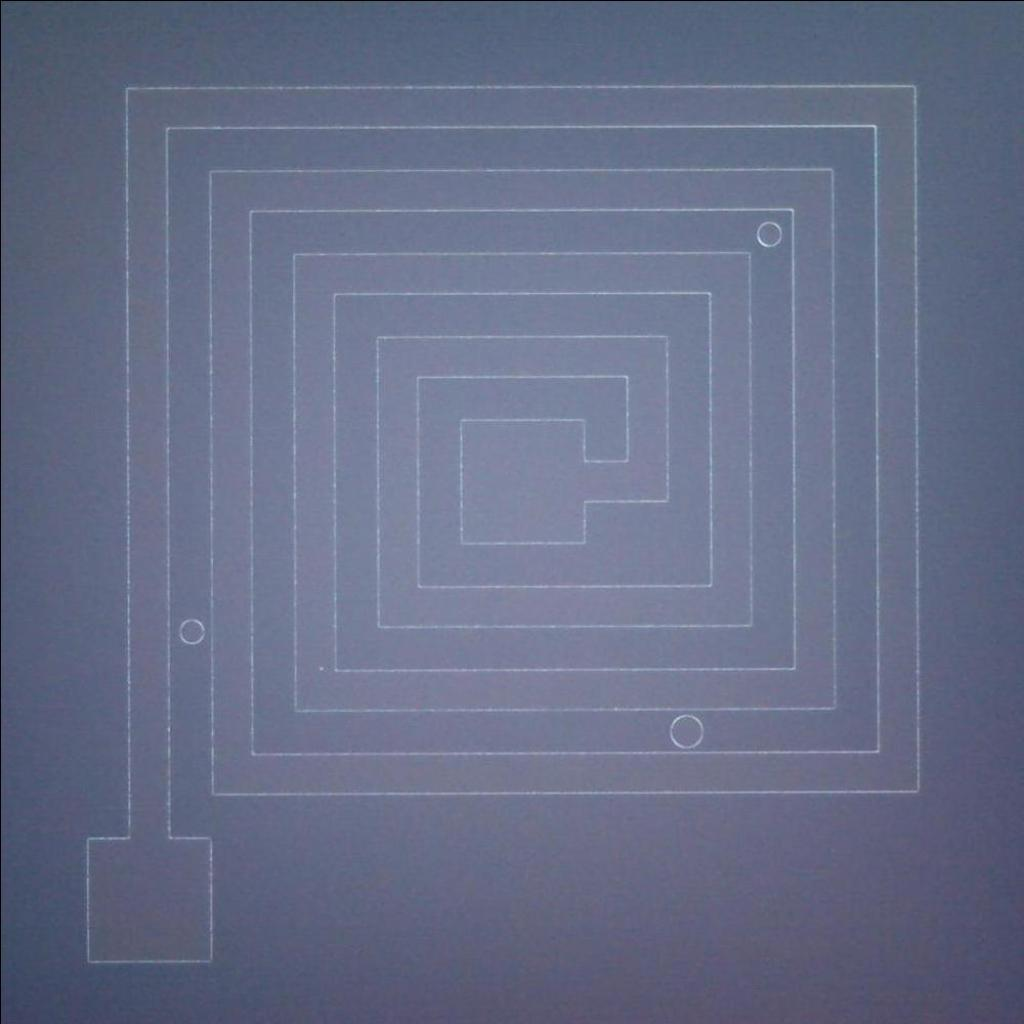circle: (664, 710, 706, 749), (750, 216, 785, 252), (176, 618, 208, 647)
